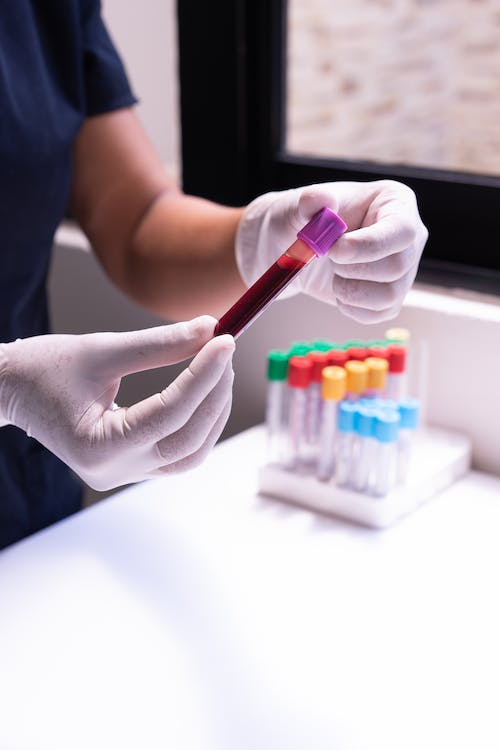blood: (212, 240, 312, 341)
